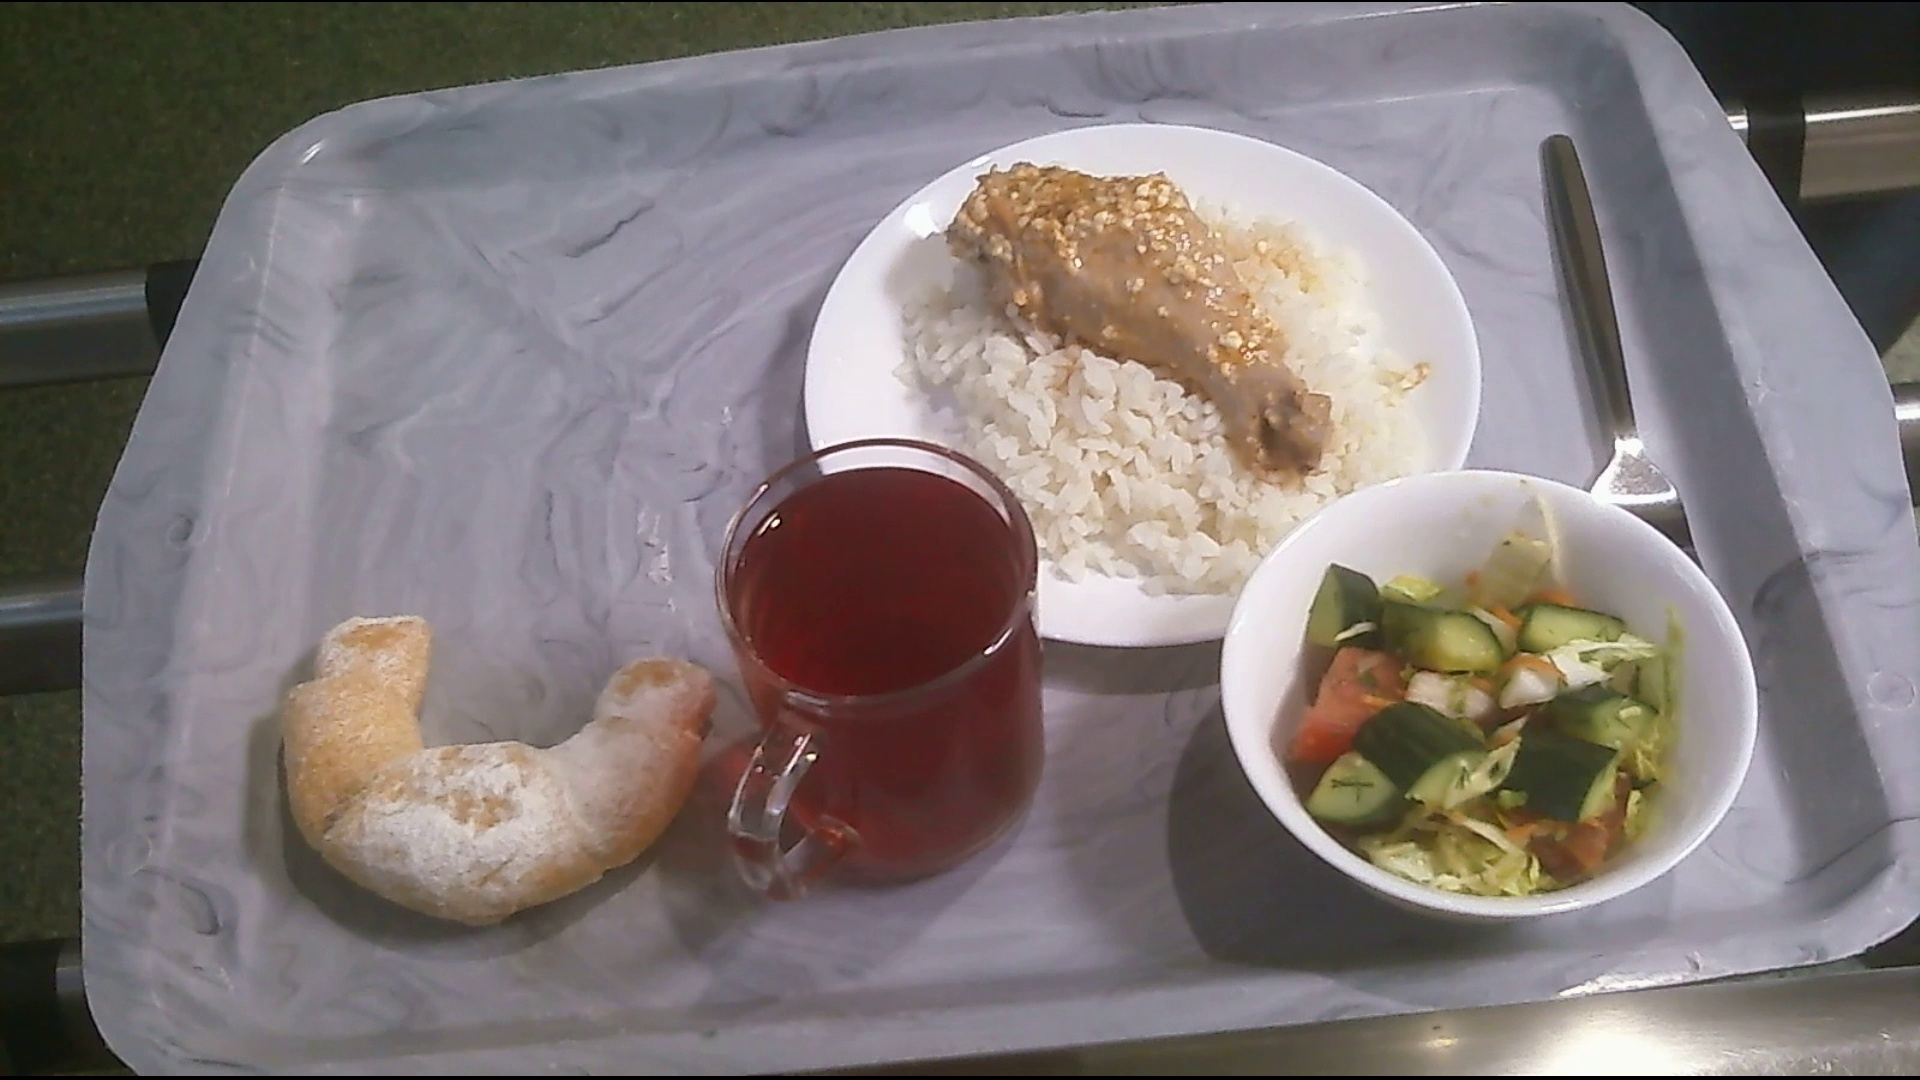bowl: (1222, 469, 1749, 916)
cutlery: (1530, 127, 1722, 589)
drink: (712, 436, 1058, 897)
other: (280, 611, 709, 927)
plate: (798, 123, 1478, 654)
